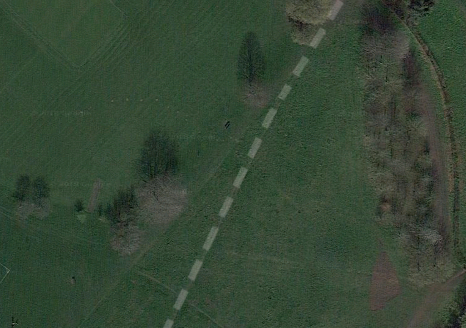tree: (133, 170, 192, 228), (100, 214, 157, 265), (238, 69, 282, 124), (9, 189, 35, 223), (28, 194, 55, 221)
